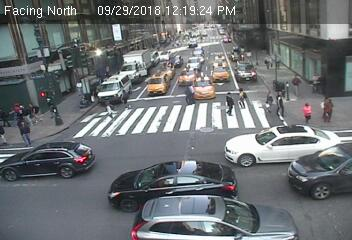car: (134, 197, 300, 240), (107, 157, 238, 204), (224, 124, 339, 164), (283, 136, 352, 196), (1, 142, 96, 177), (117, 50, 153, 82), (97, 73, 131, 102), (193, 74, 216, 99), (147, 72, 170, 97), (236, 62, 256, 82), (212, 61, 230, 82), (178, 67, 196, 85), (146, 49, 161, 66), (229, 43, 243, 61), (186, 55, 201, 70), (168, 53, 182, 66), (191, 48, 205, 61), (212, 52, 225, 65), (158, 49, 172, 60), (186, 37, 200, 48), (221, 33, 233, 43)
